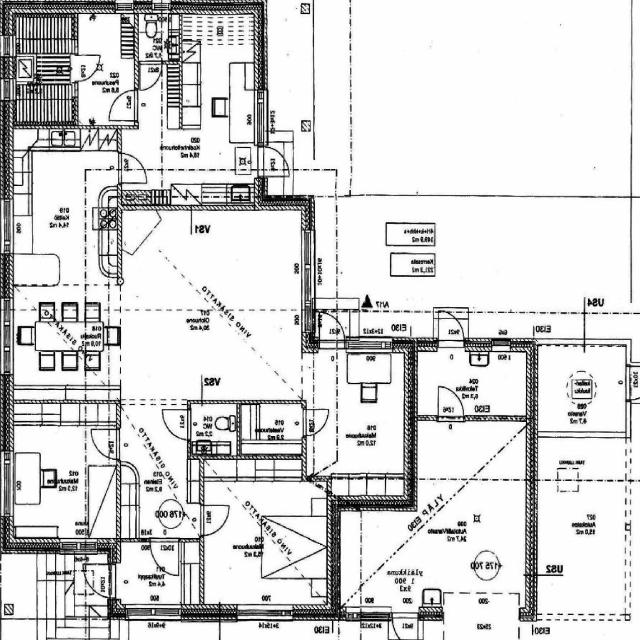door: (78, 564, 120, 597), (254, 146, 293, 176), (150, 538, 179, 576), (439, 308, 464, 352), (320, 308, 344, 352), (438, 384, 463, 422), (118, 152, 148, 183), (200, 505, 230, 535), (90, 428, 120, 458), (162, 409, 191, 439), (109, 91, 139, 120), (393, 607, 418, 640), (302, 410, 329, 436), (73, 56, 100, 80), (140, 61, 162, 90), (626, 366, 640, 398)
